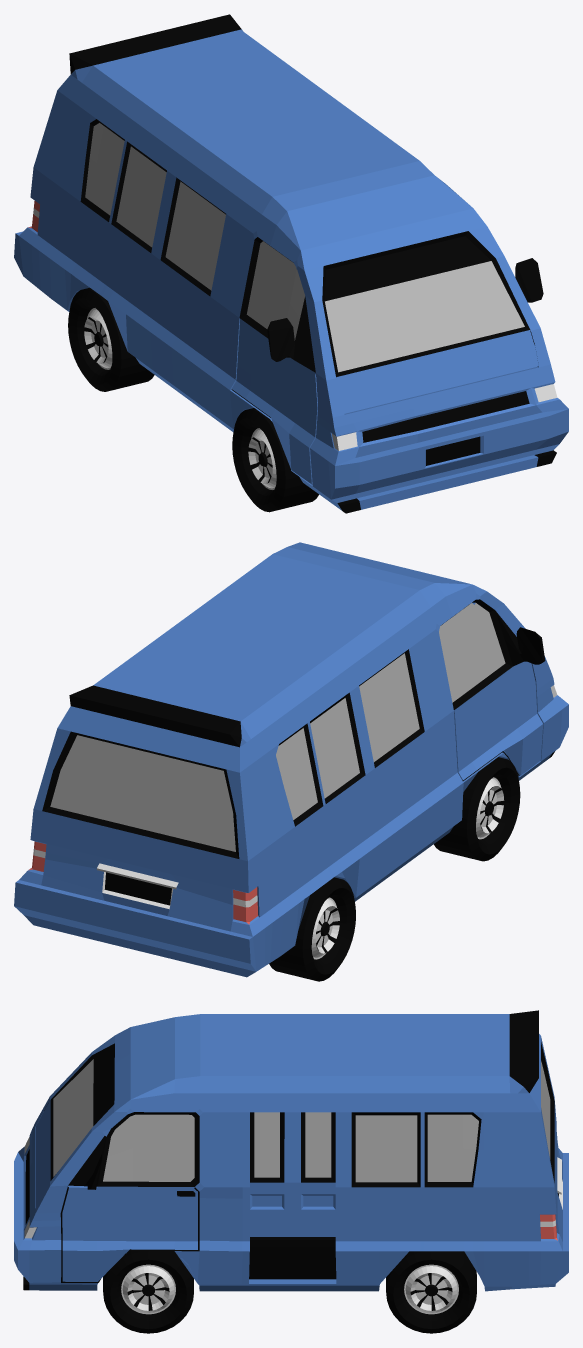
Rendered from angkot.glb.
The picture shows the model from 3 angles, top to bottom: view 1: azimuth 30°, elevation 25°; view 2: azimuth 150°, elevation 25°; view 3: azimuth 270°, elevation 25°; orthographic projection. The views are drawn at different scales.
Parts seen in each view (by area): view 1: body, ban, ban blk; view 2: body, ban, ban blk; view 3: body, ban blk, ban.
Boxes of the visible parts, x1,y1,x2,y2 form: body: (14, 14, 568, 513); ban: (232, 408, 318, 512); ban blk: (68, 287, 154, 391); body: (14, 542, 568, 977); ban: (434, 757, 520, 861); ban blk: (269, 877, 355, 981); body: (14, 1010, 568, 1291); ban blk: (386, 1251, 476, 1333); ban: (103, 1251, 193, 1333).
Size of the model in its own units: 1.58 by 1.56 by 3.25.
